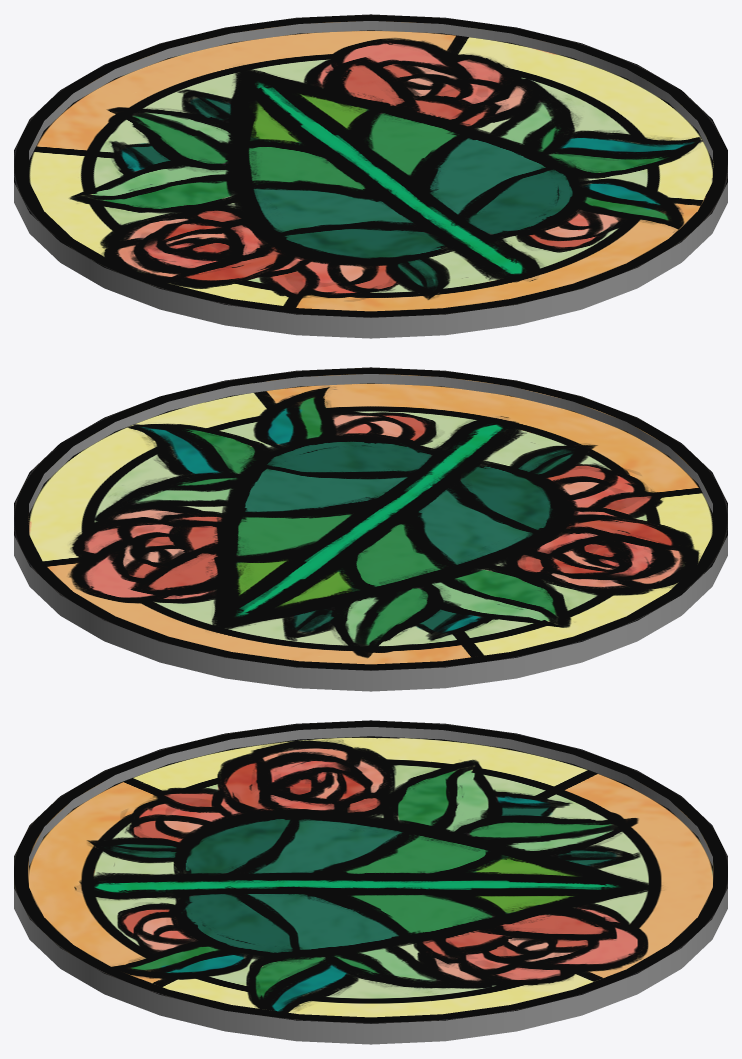
File: Production_window.fbx
3 renders of one model, top to bottom at view 1: azimuth 30°, elevation 25°; view 2: azimuth 150°, elevation 25°; view 3: azimuth 270°, elevation 25°, orthographic.
Visible parts, largest first — view 1: Window; view 2: Window; view 3: Window.
Boxes of the visible parts, x1,y1,x2,y2 form: Window: (14, 14, 727, 338); Window: (14, 367, 727, 691); Window: (14, 720, 727, 1044).
Size of the model in its own units: 45.51 by 1.45 by 45.26.
2 materials, 1 textured.
